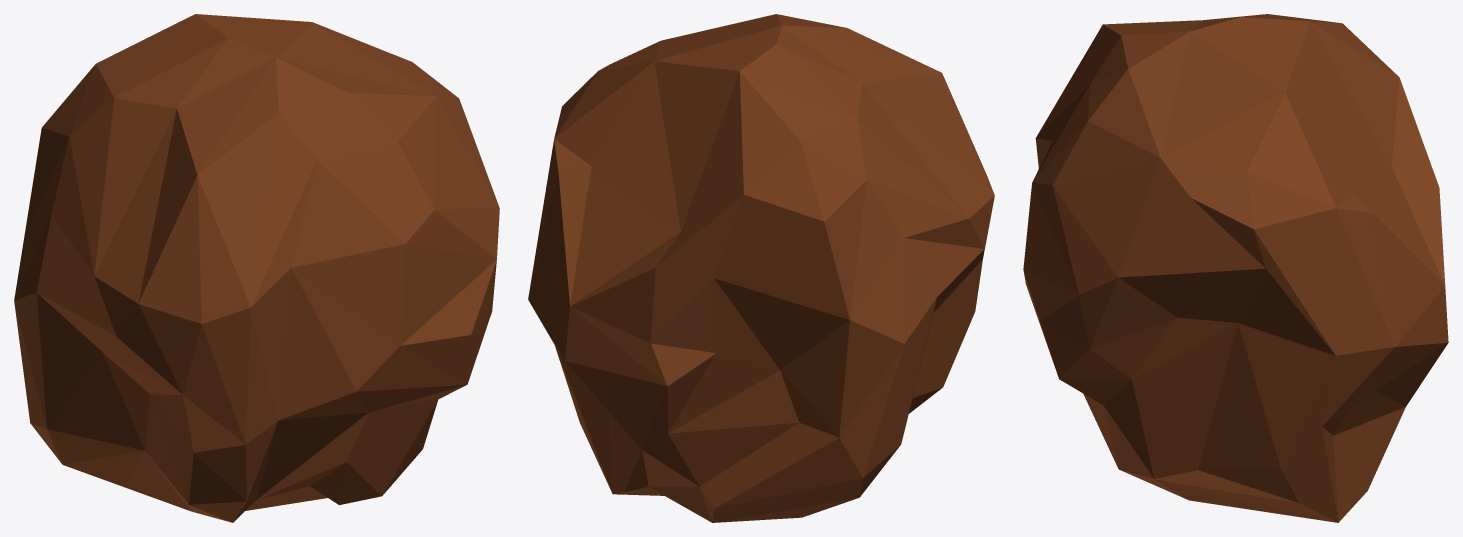
The model's file is Asteroide5.fbx.
3 views of the same model, side by side, from view 1: azimuth 30°, elevation 25°; view 2: azimuth 150°, elevation 25°; view 3: azimuth 270°, elevation 25° (orthographic). The views are drawn at different scales.
Parts seen in each view (by area): view 1: Asteroide5; view 2: Asteroide5; view 3: Asteroide5.
Part boxes in pixels (x1,y1,x2,y2): Asteroide5: (14, 14, 499, 522); Asteroide5: (528, 14, 994, 522); Asteroide5: (1023, 14, 1448, 522).
Bounding box in the file's own units: 5.77 × 6.56 × 5.54.
